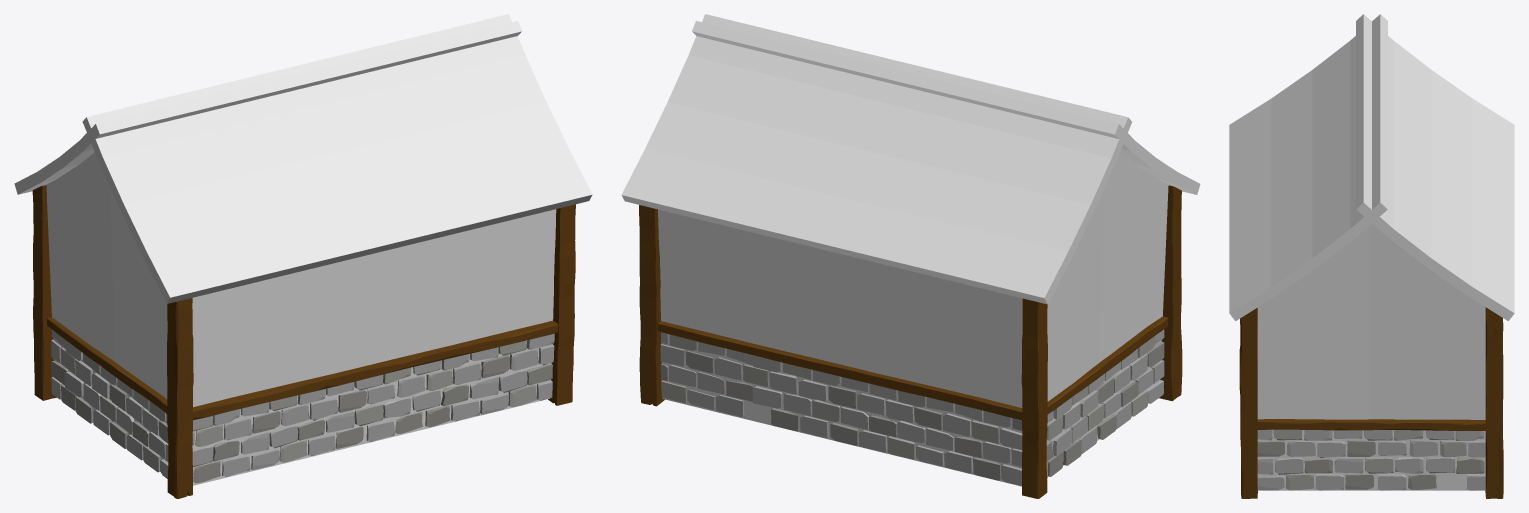
File: BPW2_BackgroundHome1.fbx
3 views of the same model, side by side, from view 1: azimuth 30°, elevation 25°; view 2: azimuth 150°, elevation 25°; view 3: azimuth 270°, elevation 25° (orthographic). The views are drawn at different scales.
Visible parts, largest first — view 1: Plane, Cube, Bricks2, Pillar4.004, Pillar4.008; view 2: Plane, Cube, Bricks2, Pillar4.004, Pillar4.008; view 3: Plane, Cube, Bricks2, Pillar4.004, Pillar4.008.
Part boxes in pixels (<box>): Plane: <box>14,14,592,303</box>; Cube: <box>46,152,556,485</box>; Bricks2: <box>51,329,554,483</box>; Pillar4.004: <box>32,185,575,498</box>; Pillar4.008: <box>47,317,558,420</box>; Plane: <box>621,14,1200,304</box>; Cube: <box>658,152,1168,486</box>; Bricks2: <box>660,329,1164,485</box>; Pillar4.004: <box>639,185,1182,498</box>; Pillar4.008: <box>657,316,1168,419</box>; Plane: <box>1229,14,1514,321</box>; Cube: <box>1257,224,1485,490</box>; Bricks2: <box>1257,429,1485,490</box>; Pillar4.004: <box>1239,307,1503,498</box>; Pillar4.008: <box>1257,419,1485,430</box>.
Size of the model in its own units: 670 by 498 by 427.
